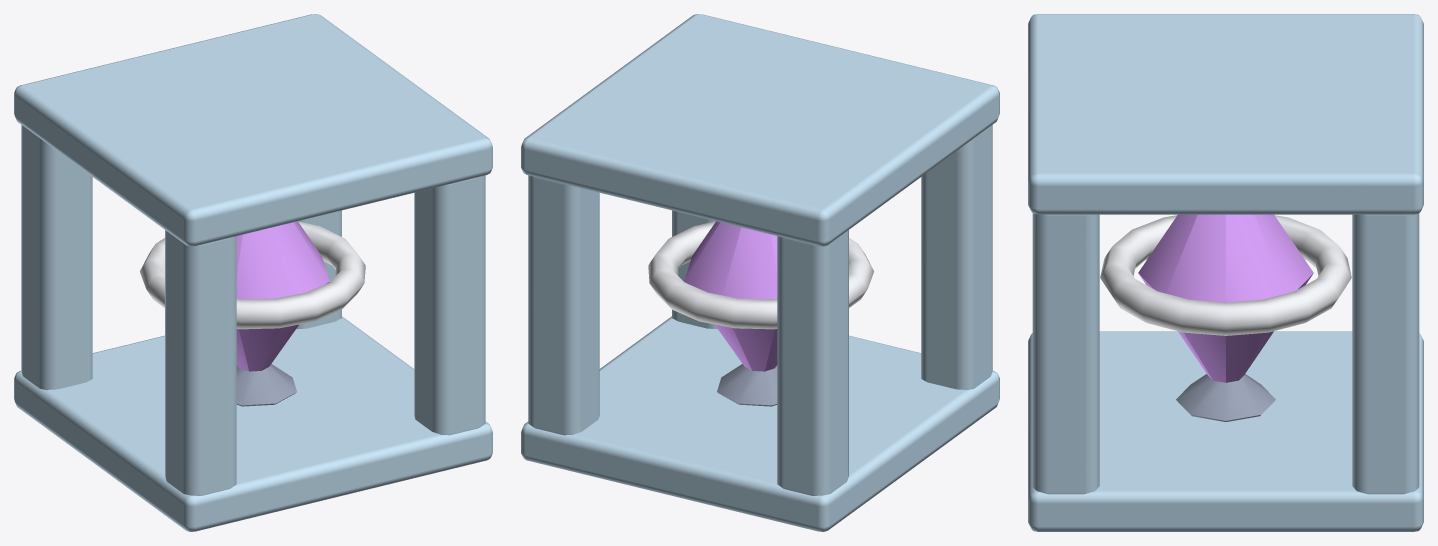
The model's file is R4X_CoreBooster.glb.
3 renders of one model, left to right at view 1: azimuth 30°, elevation 25°; view 2: azimuth 150°, elevation 25°; view 3: azimuth 270°, elevation 25°, orthographic. The views are drawn at different scales.
Visible parts, largest first — view 1: R4X_CoreBooster_Body; view 2: R4X_CoreBooster_Body; view 3: R4X_CoreBooster_Body.
Boxes of the visible parts, box(x1,y1,x2,y2) form: R4X_CoreBooster_Body: box(14, 14, 492, 531); R4X_CoreBooster_Body: box(521, 14, 999, 531); R4X_CoreBooster_Body: box(1028, 14, 1423, 531).
Size of the model in its own units: 0.52 by 0.52 by 0.52.
